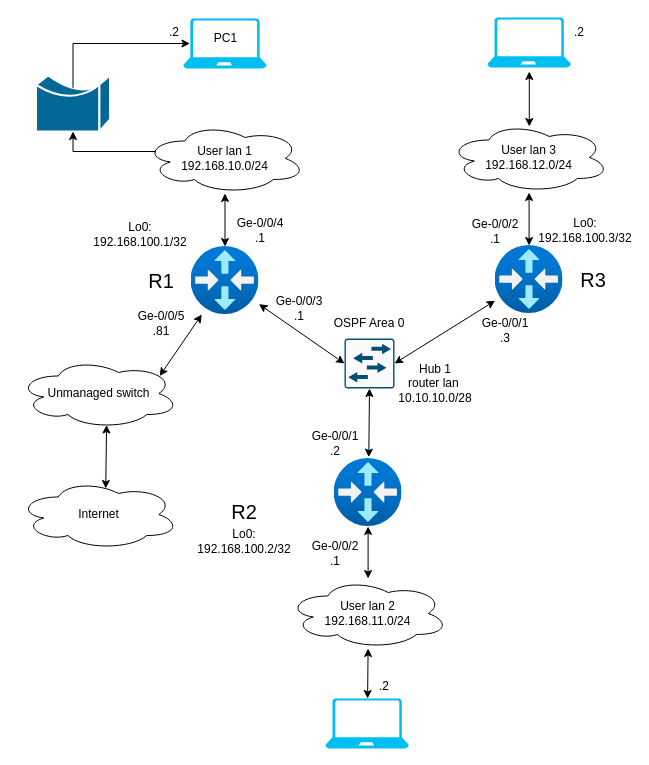
Some shapes in this 649 by 765 pixel diagram are drawn without their labels. The shapes that lost their labels are listed below. From the top down, each one's centre as x and y in pixels, then its label:
the point at 528,42: PC3
the point at 72,103: VMware VMnet 0
the point at 366,723: PC2
